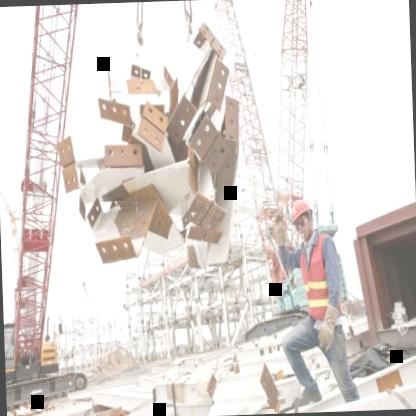helmet: (288, 194, 318, 240)
